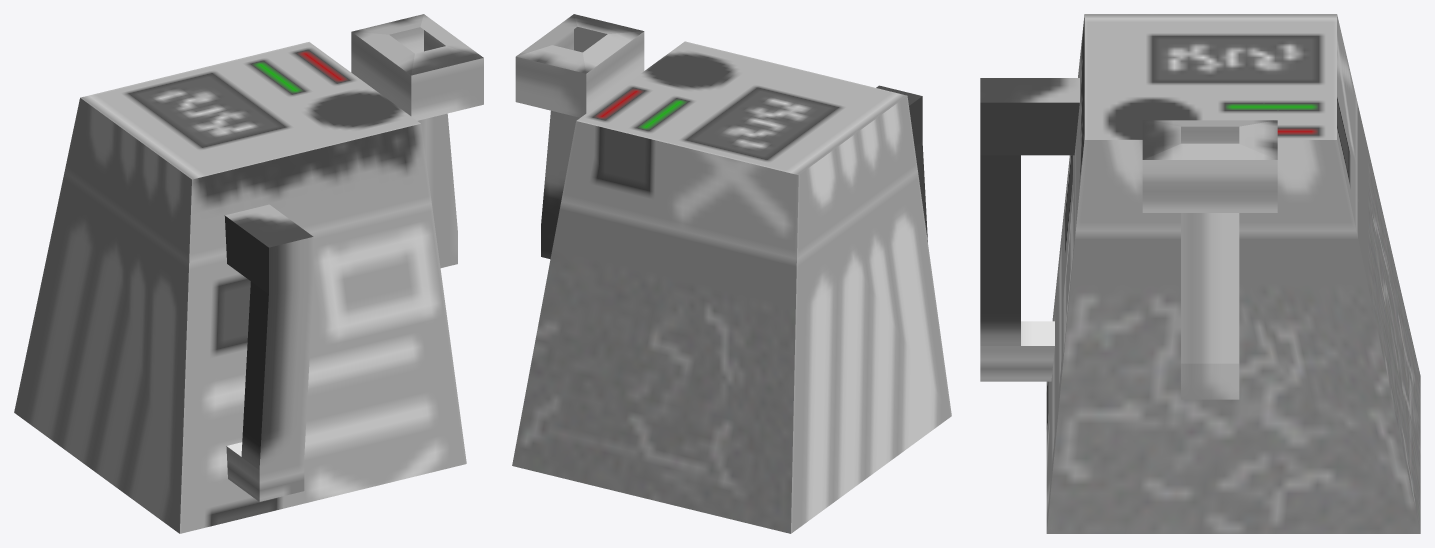
File: magical_grinder.obj
3 renders of one model, left to right at view 1: azimuth 30°, elevation 25°; view 2: azimuth 150°, elevation 25°; view 3: azimuth 270°, elevation 25°, orthographic. The views are drawn at different scales.
Visible parts, largest first — view 1: Grinder; view 2: Grinder; view 3: Grinder.
Boxes of the visible parts, box(x1,y1,x2,y2) form: Grinder: box(14, 14, 483, 533); Grinder: box(512, 14, 951, 533); Grinder: box(980, 14, 1420, 533).
Size of the model in its own units: 0.9662 by 0.9721 by 0.9425.
